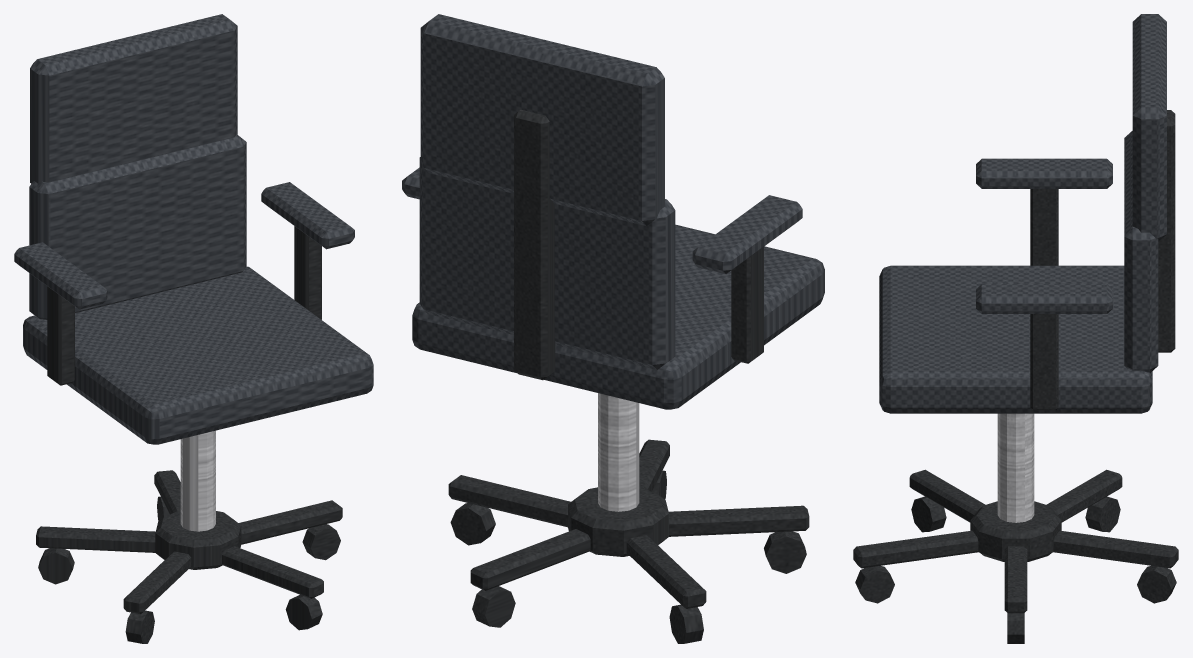
File: 02_Silla_Ejecutiva.obj
3 renders of one model, left to right at view 1: azimuth 30°, elevation 25°; view 2: azimuth 150°, elevation 25°; view 3: azimuth 270°, elevation 25°, orthographic. The views are drawn at different scales.
Parts seen in each view (by area): view 1: 02_Silla_Ejecutiva; view 2: 02_Silla_Ejecutiva; view 3: 02_Silla_Ejecutiva.
Boxes of the visible parts, x1,y1,x2,y2 form: 02_Silla_Ejecutiva: (14,14,373,643); 02_Silla_Ejecutiva: (402,14,824,643); 02_Silla_Ejecutiva: (853,14,1178,643).
Size of the model in its own units: 0.591 by 1.01 by 0.5717.
